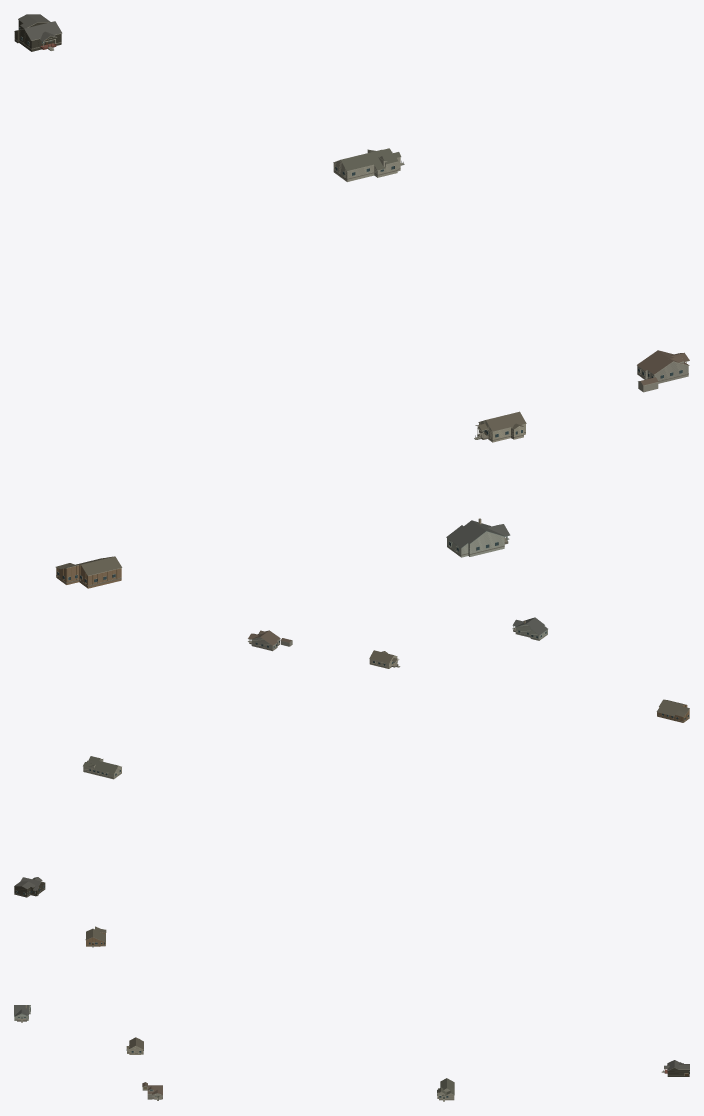
The model's file is site.glb.
3 renders of one model, top to bottom at view 1: azimuth 30°, elevation 25°; view 2: azimuth 150°, elevation 25°; view 3: azimuth 270°, elevation 25°, orthographic. The views are drawn at different scales.
Visible parts, largest first — view 1: roof-6f41ba80, roof-7dd08283, roof-e086d515, roof-fb6ac47a, roof-bef4cf29, roof-9fdf719c; view 2: roof-6f41ba80, roof-7dd08283, roof-e086d515, roof-fb6ac47a, roof-bef4cf29; view 3: roof-bef4cf29, roof-fb6ac47a, roof-7dd08283.
Part boxes in pixels (left/top/right/bottom): roof-6f41ba80: left=446, top=518, right=510, bottom=557; roof-7dd08283: left=333, top=148, right=403, bottom=181; roof-e086d515: left=637, top=350, right=689, bottom=392; roof-fb6ac47a: left=55, top=556, right=122, bottom=588; roof-bef4cf29: left=14, top=14, right=62, bottom=51; roof-9fdf719c: left=475, top=411, right=526, bottom=442; roof-6f41ba80: left=512, top=617, right=547, bottom=640; roof-7dd08283: left=83, top=756, right=121, bottom=779; roof-e086d515: left=248, top=630, right=292, bottom=651; roof-fb6ac47a: left=656, top=699, right=689, bottom=722; roof-bef4cf29: left=14, top=877, right=45, bottom=897; roof-bef4cf29: left=662, top=1060, right=689, bottom=1076; roof-fb6ac47a: left=85, top=926, right=106, bottom=946; roof-7dd08283: left=437, top=1078, right=454, bottom=1100.
Bounding box in the file's own units: 275 × 14.42 × 463.
